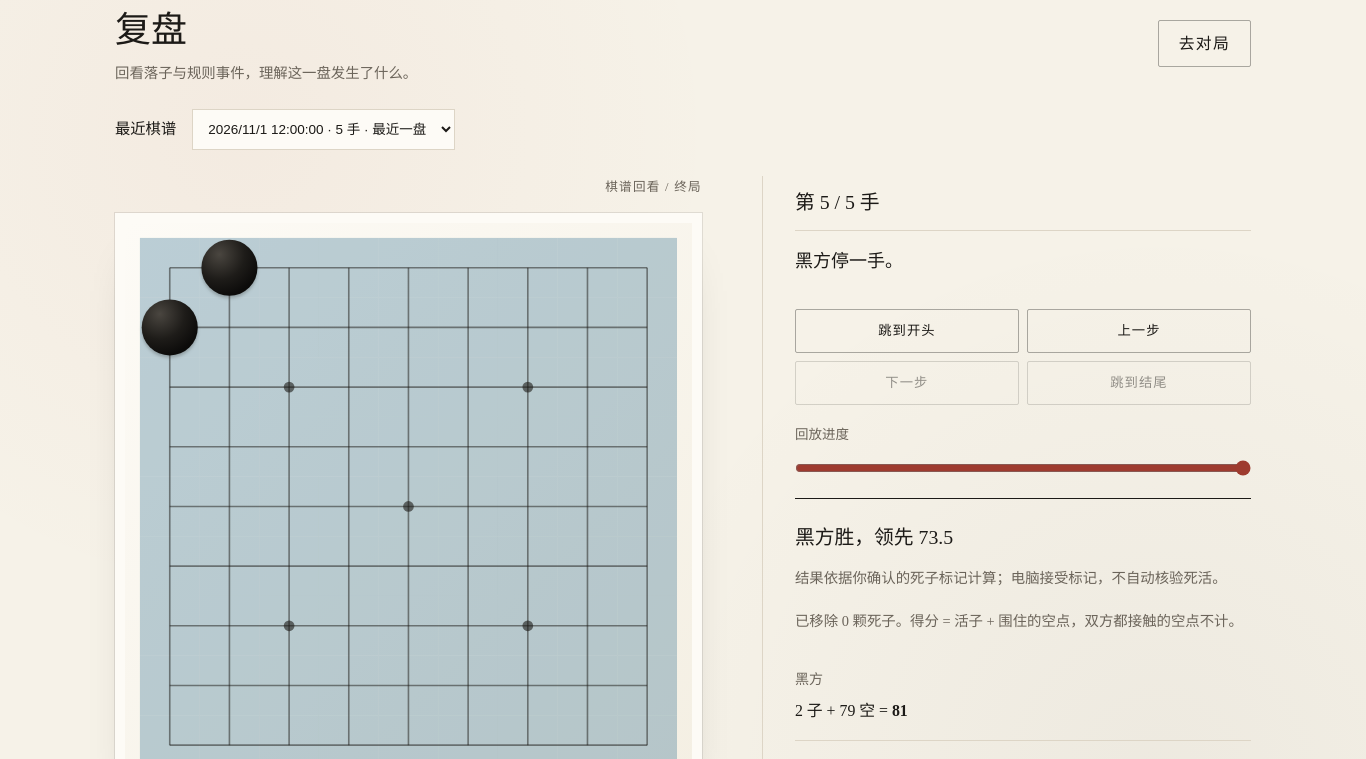
Test: 复盘页 › 初始在末尾显示结果，逐步回看提子和停一手
Check: the button "下一步" is disabled, box [795,361,1019,405]
Step 1. Click the button "跳到开头" → point(907, 331), box [795,309,1019,353]
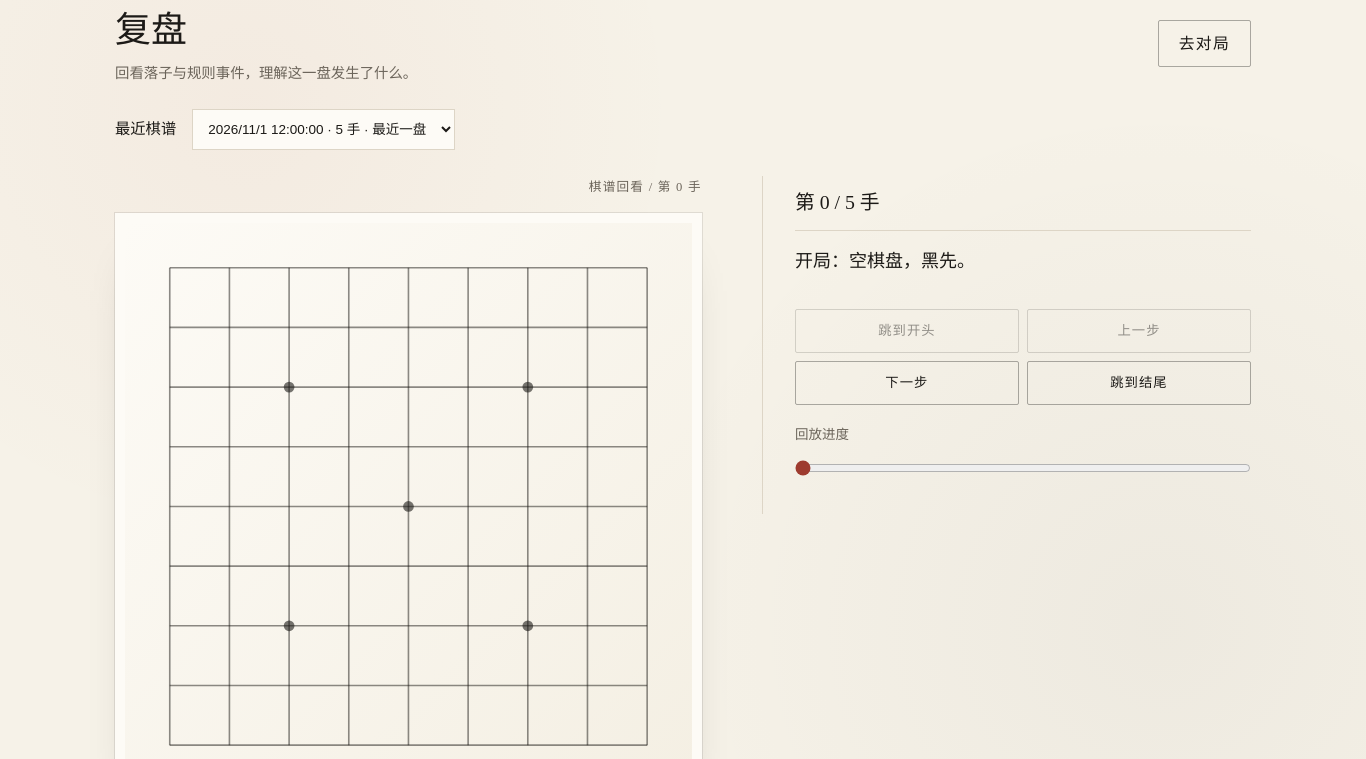
Step 2. Click the button "下一步" → point(907, 383), box [795,361,1019,405]
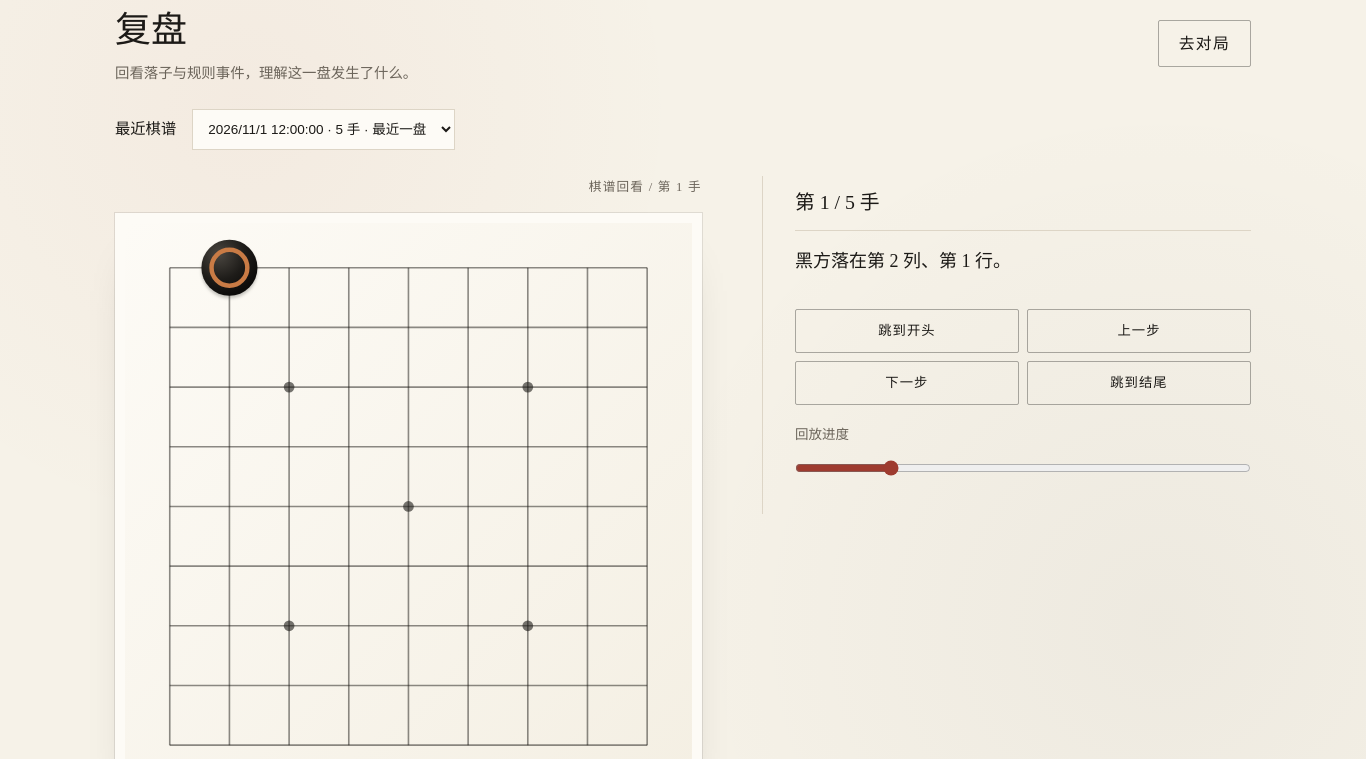
Step 3. Click the button "下一步" → point(907, 383), box [795,361,1019,405]
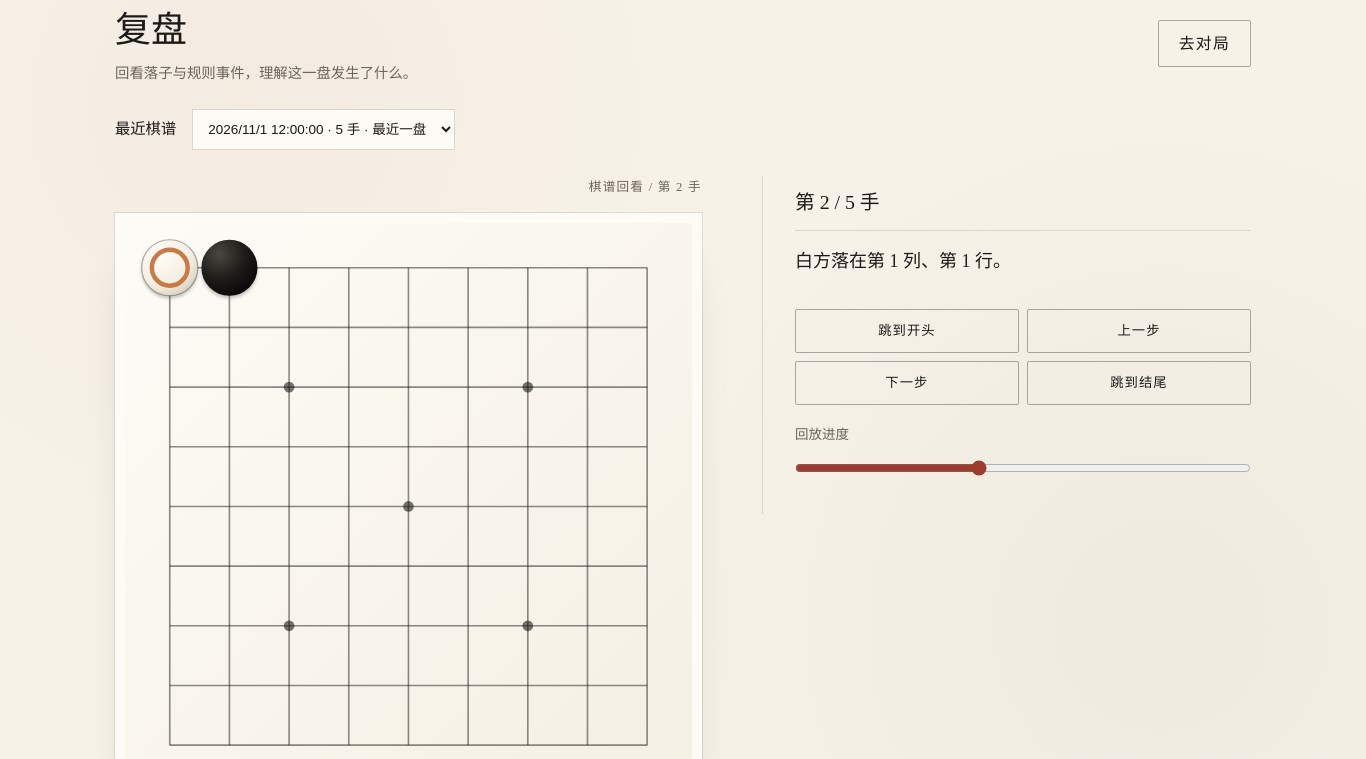
Step 4. Click the button "下一步" → point(907, 383), box [795,361,1019,405]
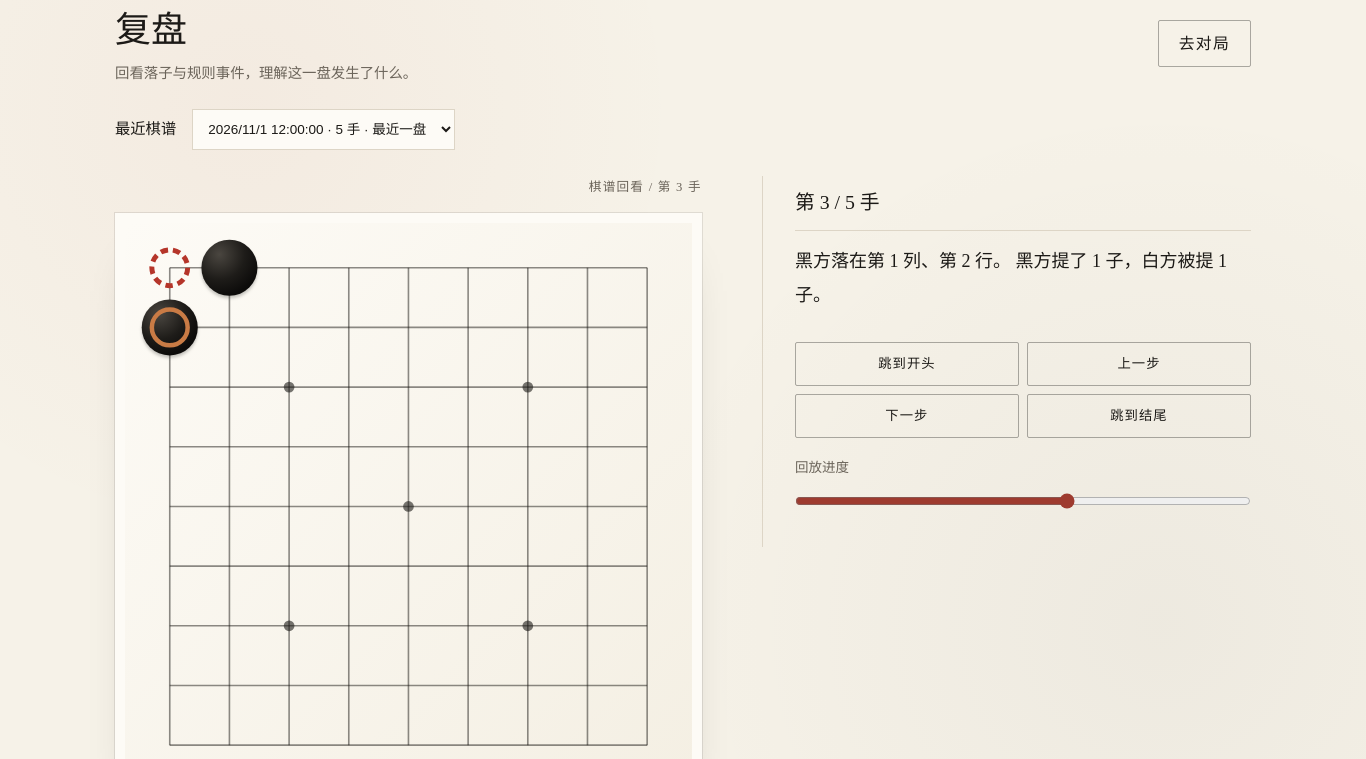
Check: the message shows "白方被提 1 子", box [795,251,1227,305]
Step 5. Click the button "下一步" → point(907, 416), box [795,394,1019,438]
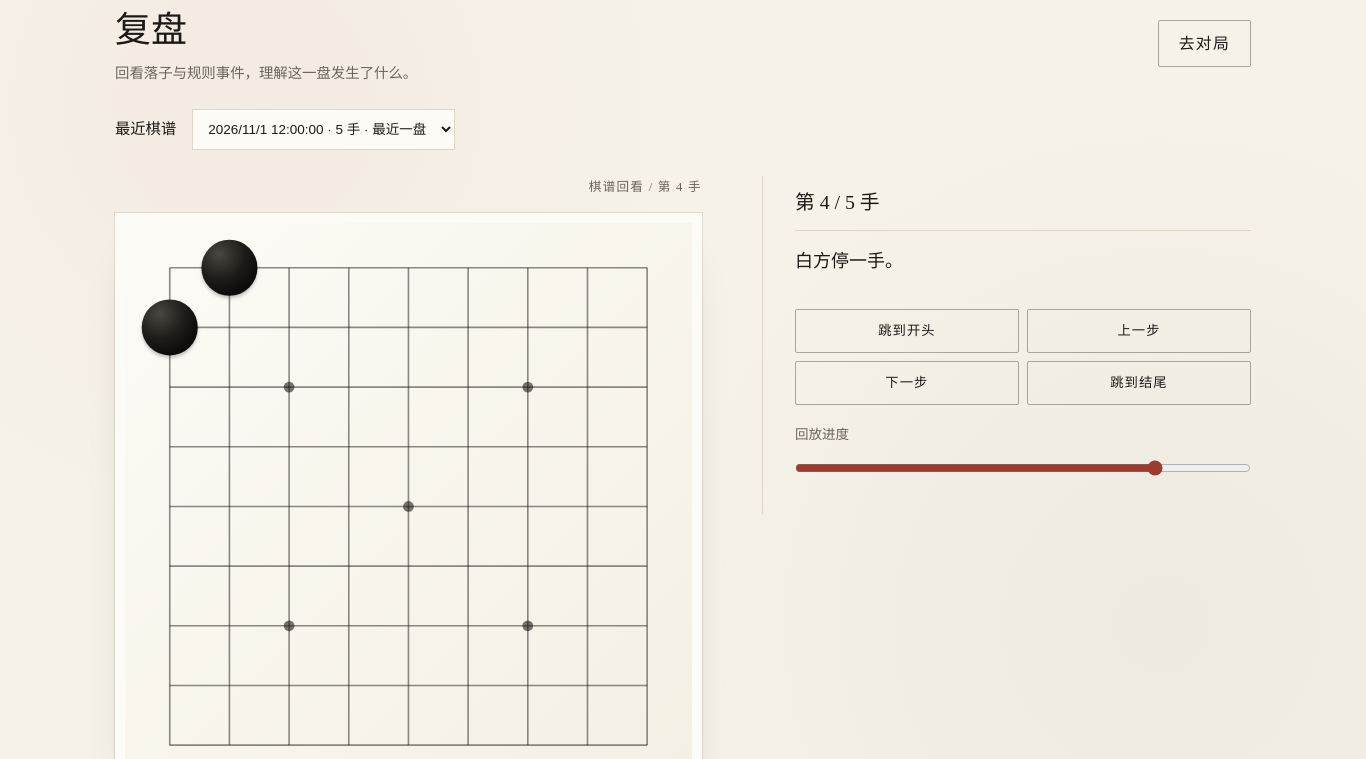
Check: the message reads "白方停一手。", box [795,251,903,271]
Step 6. Click the button "跳到结尾" → point(1139, 383), box [1027,361,1251,405]
(page scrolled)
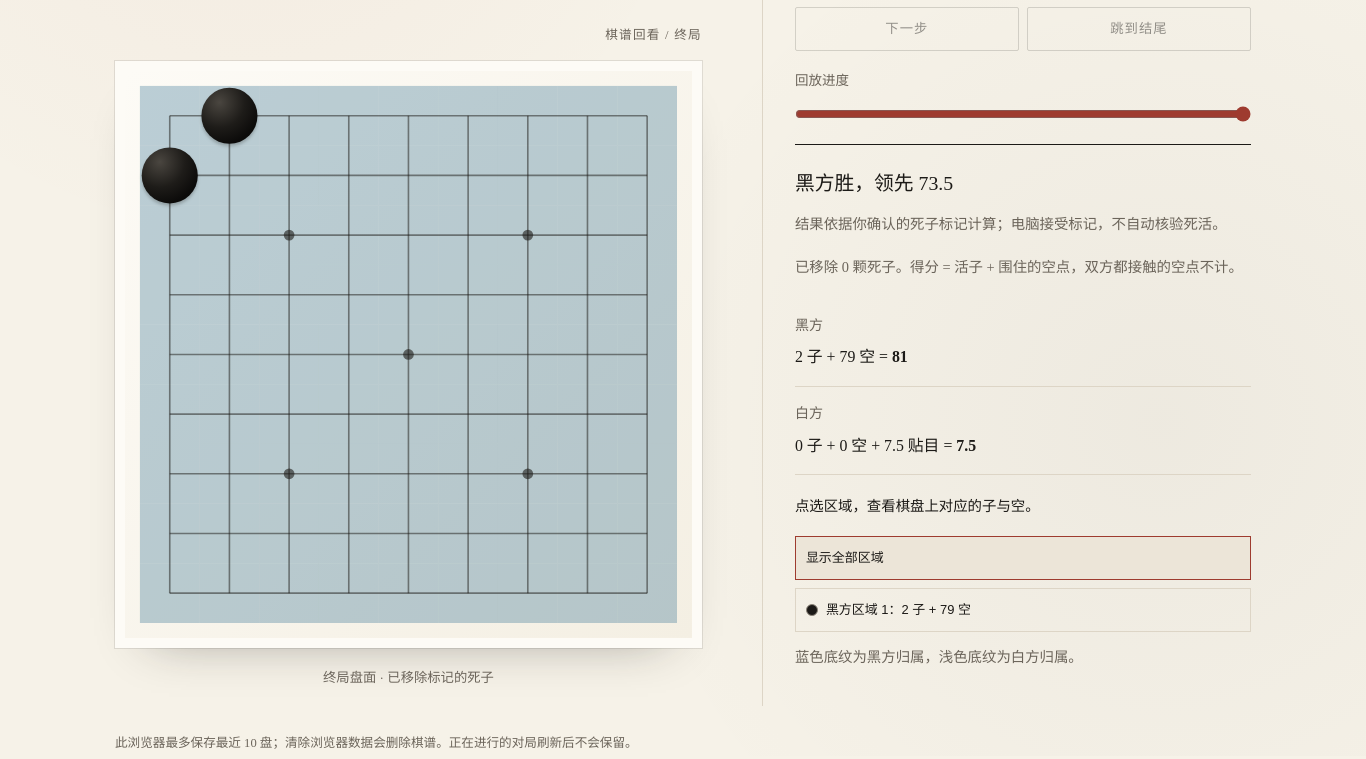
Check: the element named "数子结果" is shown, box [795,144,1251,670]
